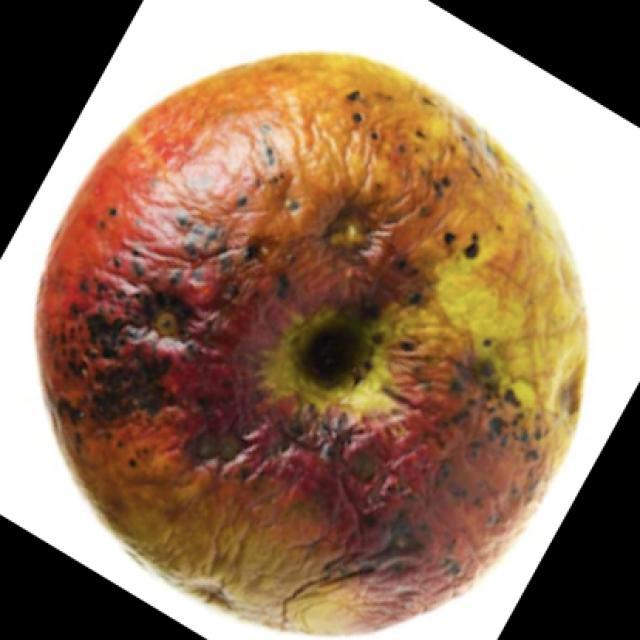Rotten: (31, 48, 584, 640)
